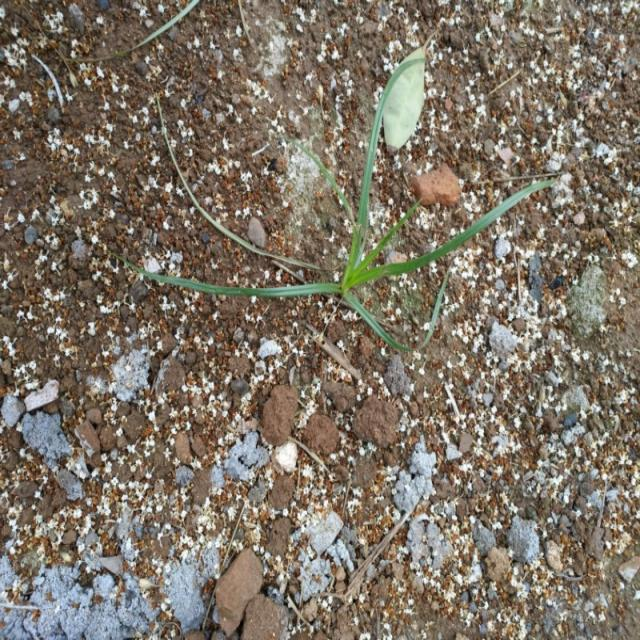sedge: (209, 90, 525, 396)
